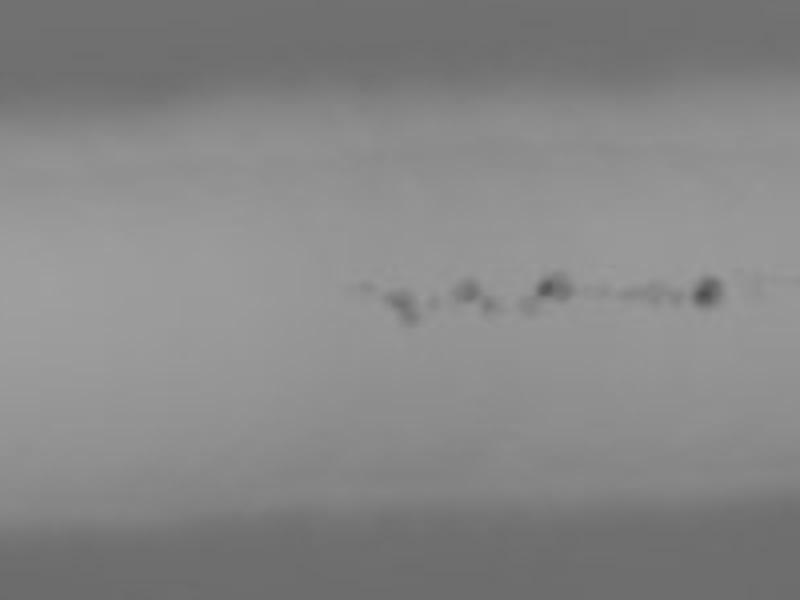defect: (618, 280, 681, 303), (382, 293, 417, 325), (691, 275, 722, 309), (537, 273, 571, 300), (452, 276, 479, 299), (422, 292, 442, 315), (480, 292, 498, 315), (519, 297, 540, 316), (356, 278, 371, 296)
